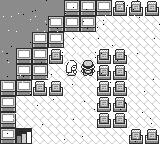main: (81, 60, 95, 76)
no-caminable: (1, 0, 112, 143), (1, 0, 65, 81), (96, 48, 129, 128), (112, 0, 160, 16), (32, 81, 64, 96), (129, 129, 160, 143), (48, 49, 64, 64)
npc: (65, 60, 78, 76)
puerta: (16, 128, 32, 143)
